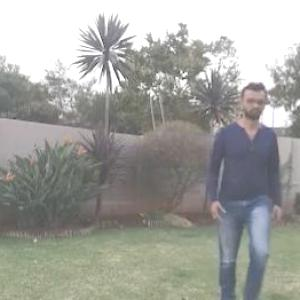follow: (214, 86, 278, 299)
